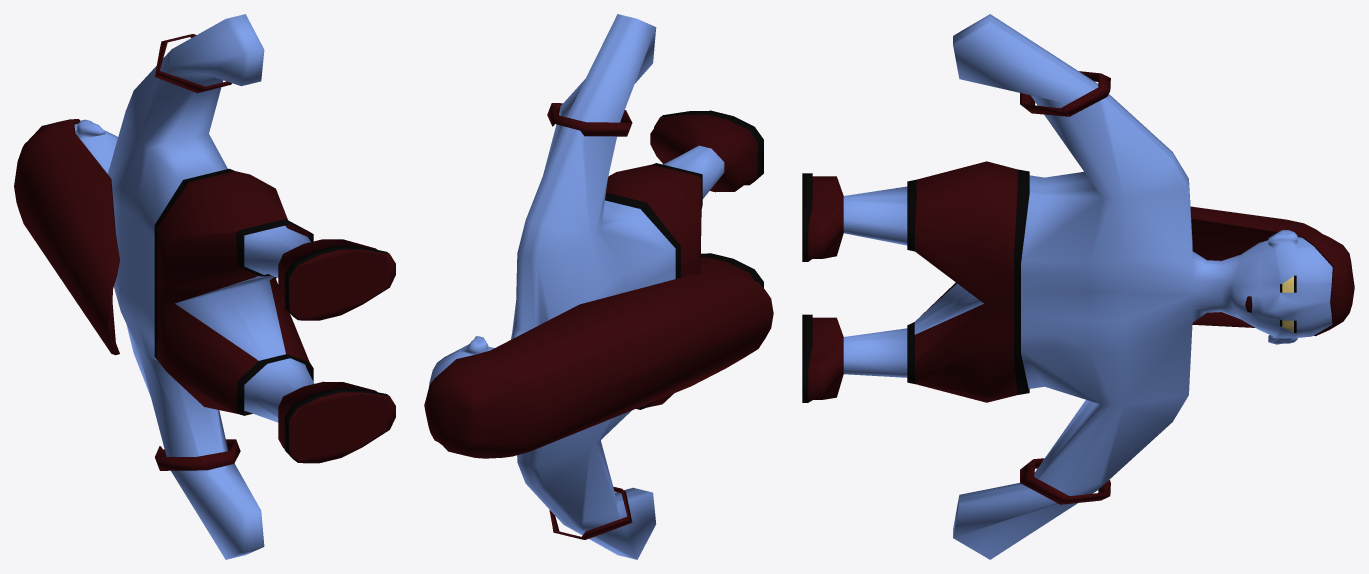
File: Strong.fbx
3 renders of one model, left to right at view 1: azimuth 30°, elevation 25°; view 2: azimuth 150°, elevation 25°; view 3: azimuth 270°, elevation 25°, orthographic.
Parts seen in each view (by area): view 1: Cube.002; view 2: Cube.002; view 3: Cube.002.
Part boxes in pixels (bbox=[...]): Cube.002: bbox=[14, 14, 395, 559]; Cube.002: bbox=[424, 14, 773, 559]; Cube.002: bbox=[802, 14, 1354, 559].
Size of the model in its own units: 0.7007 by 1.67 by 1.79.
